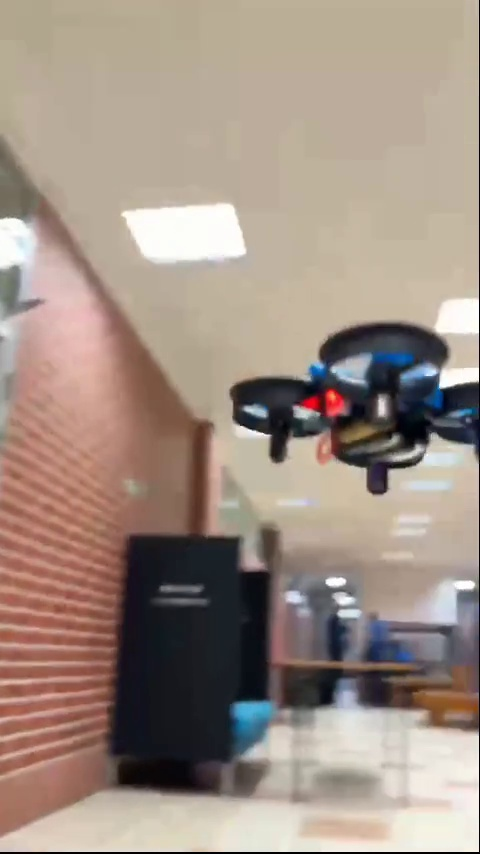drone: (236, 315, 480, 499)
no vest: (364, 614, 387, 661), (326, 609, 348, 656)
